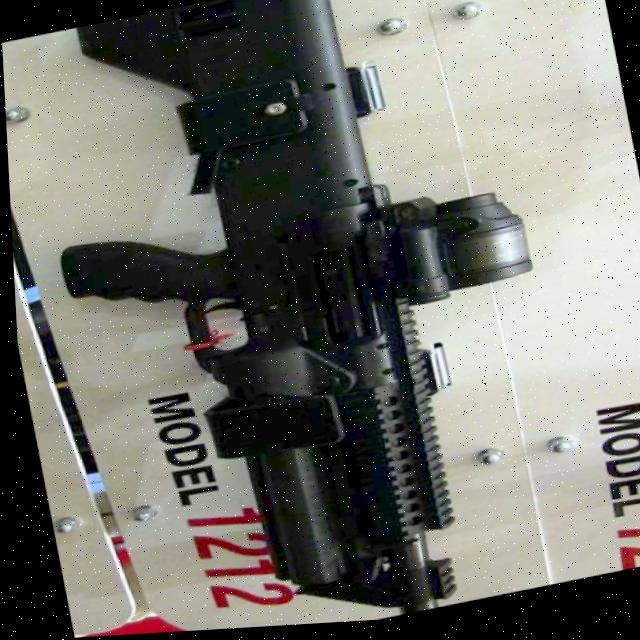firearm: (13, 0, 592, 639)
